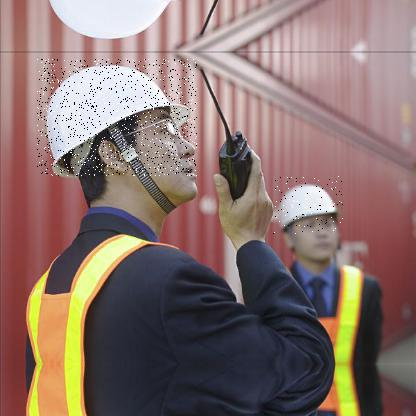safetyhelmet: (37, 59, 198, 177), (274, 176, 346, 235)
